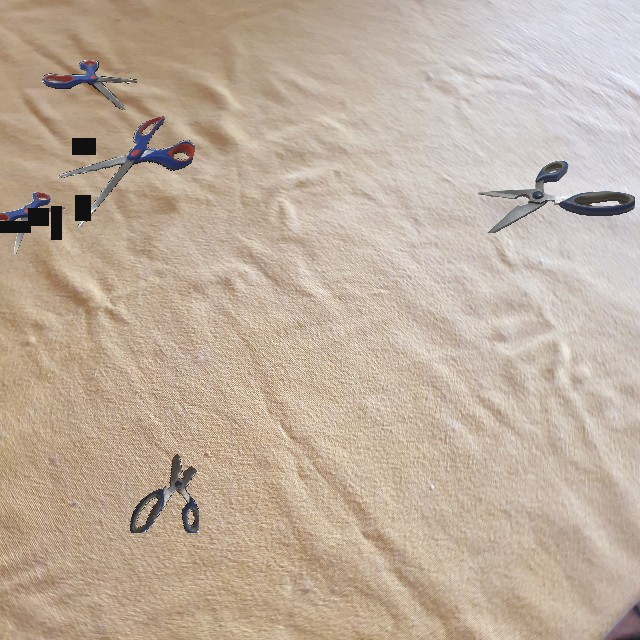scissors: (58, 116, 195, 227), (478, 160, 635, 233), (130, 454, 199, 533), (42, 60, 137, 110), (0, 192, 65, 254)
